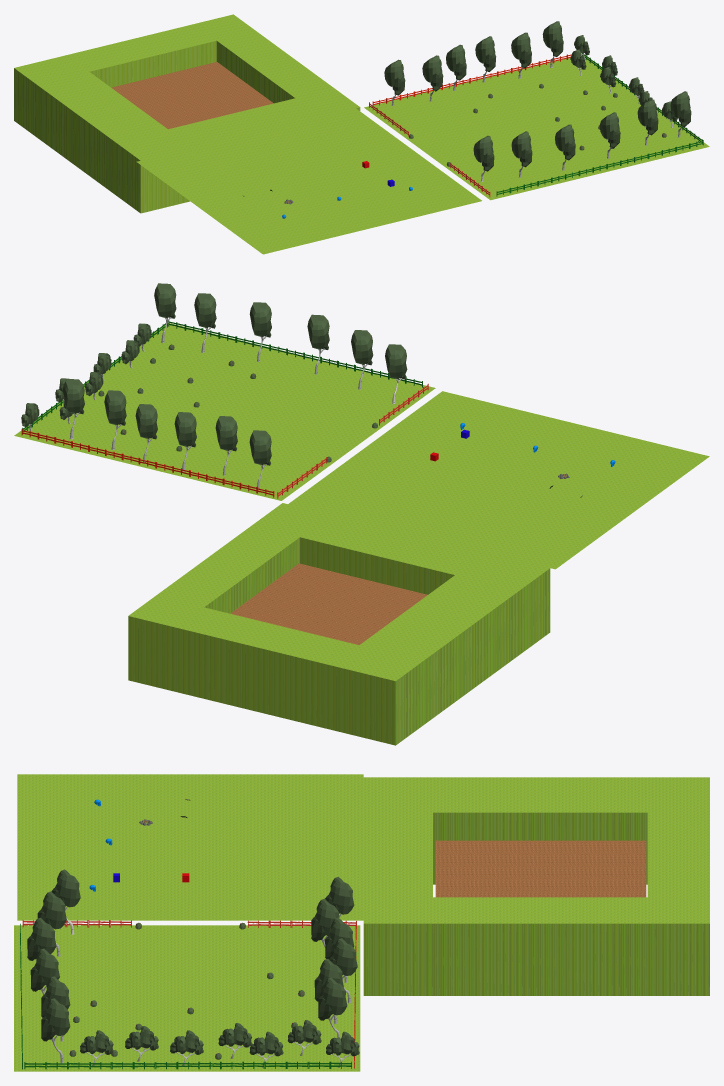
The picture shows the model from 3 angles, top to bottom: view 1: azimuth 30°, elevation 25°; view 2: azimuth 150°, elevation 25°; view 3: azimuth 270°, elevation 25°; orthographic projection. The views are drawn at different scales.
Parts seen in each view (by area): view 1: lakeGround, ground, forest, lake, Fence.001, Fence, BirchTree_2_Cube.005, BirchTree_2_Cube.001, BirchTree_2_Cube.003, BirchTree_2_Cube.008, BirchTree_2_Cube.012, BirchTree_2_Cube.002 (+6 smaller); view 2: lakeGround, ground, forest, lake, Fence, Fence.001, BirchTree_2_Cube.003, BirchTree_2_Cube.007, BirchTree_2_Cube.008, BirchTree_2_Cube.012, BirchTree_2_Cube.001, BirchTree_2_Cube.009 (+6 smaller); view 3: lakeGround, ground, forest, lake, Fence.002, BirchTree_2_Cube.003, BirchTree_2_Cube.009, BirchTree_2_Cube.007, BirchTree_2_Cube.005, BirchTree_2_Cube.011, BirchTree_2_Cube.001, BirchTree_2_Cube.012 (+12 smaller).
Boxes of the visible parts, left/top/right/bottom form: lakeGround: left=14, top=14, right=360, bottom=213; ground: left=136, top=108, right=481, bottom=254; forest: left=364, top=54, right=709, bottom=200; lake: left=111, top=62, right=273, bottom=129; Fence.001: left=496, top=140, right=703, bottom=196; Fence: left=372, top=54, right=571, bottom=105; BirchTree_2_Cube.005: left=555, top=124, right=575, bottom=170; BirchTree_2_Cube.001: left=511, top=131, right=532, bottom=177; BirchTree_2_Cube.003: left=670, top=91, right=691, bottom=137; BirchTree_2_Cube.008: left=637, top=99, right=658, bottom=145; BirchTree_2_Cube.012: left=473, top=135, right=494, bottom=181; BirchTree_2_Cube.002: left=446, top=44, right=466, bottom=90; lakeGround: left=128, top=503, right=550, bottom=745; ground: left=288, top=391, right=709, bottom=569; forest: left=14, top=323, right=435, bottom=500; lake: left=230, top=563, right=427, bottom=644; Fence: left=21, top=429, right=274, bottom=497; Fence.001: left=168, top=320, right=422, bottom=387; BirchTree_2_Cube.003: left=154, top=283, right=176, bottom=342; BirchTree_2_Cube.007: left=249, top=302, right=271, bottom=361; BirchTree_2_Cube.008: left=194, top=293, right=216, bottom=352; BirchTree_2_Cube.012: left=385, top=344, right=407, bottom=403; BirchTree_2_Cube.001: left=351, top=330, right=373, bottom=389; BirchTree_2_Cube.009: left=62, top=379, right=84, bottom=439; lakeGround: left=363, top=777, right=709, bottom=995; ground: left=17, top=774, right=363, bottom=920; forest: left=14, top=925, right=360, bottom=1071; lake: left=435, top=840, right=646, bottom=897; Fence.002: left=24, top=1061, right=351, bottom=1069; BirchTree_2_Cube.003: left=41, top=998, right=70, bottom=1063; BirchTree_2_Cube.009: left=318, top=977, right=347, bottom=1037; BirchTree_2_Cube.007: left=30, top=948, right=59, bottom=994; BirchTree_2_Cube.005: left=27, top=917, right=56, bottom=960; BirchTree_2_Cube.011: left=311, top=898, right=338, bottom=947; BirchTree_2_Cube.001: left=37, top=891, right=66, bottom=956; BirchTree_2_Cube.012: left=51, top=869, right=80, bottom=934.
Size of the model in its own units: 203 by 43.94 by 201.
Materials: 166 (4 with a texture image).
